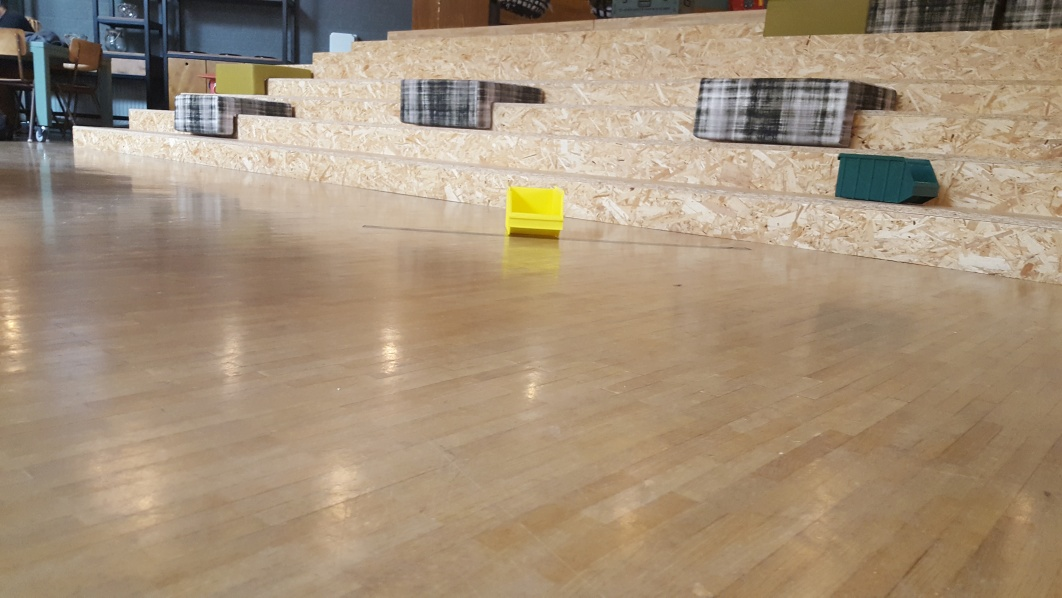tray: (834, 153, 938, 206), (506, 184, 567, 240)
